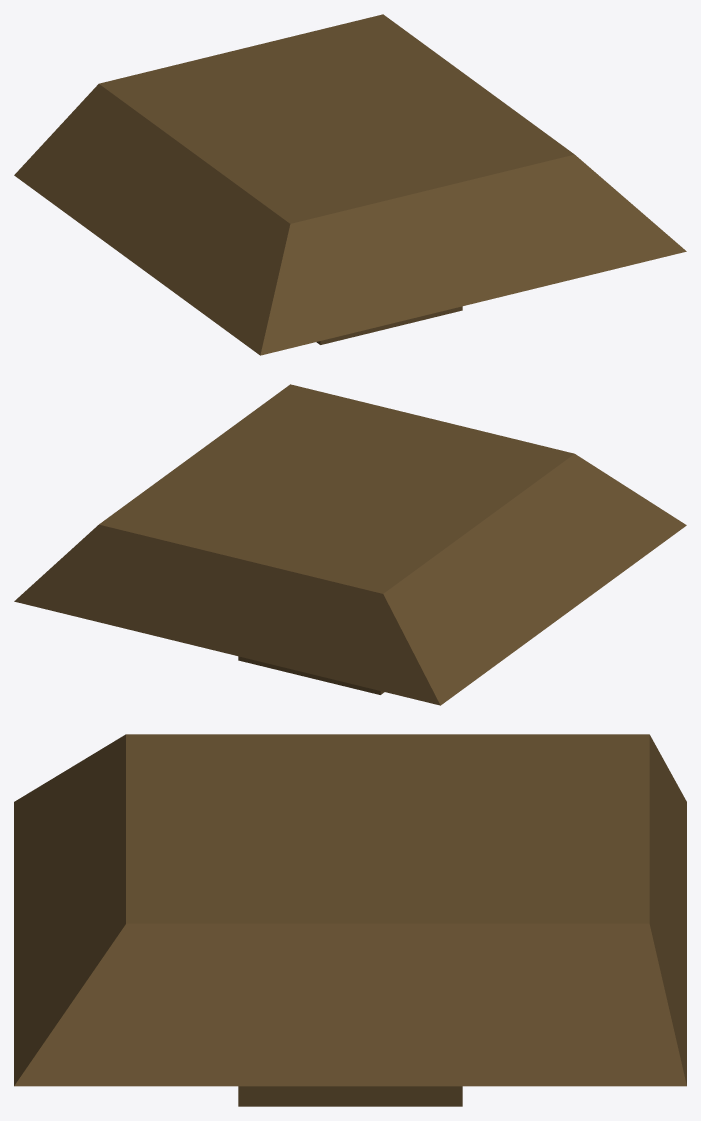
Rendered from original-69.obj.
The picture shows the model from 3 angles, top to bottom: view 1: azimuth 30°, elevation 25°; view 2: azimuth 150°, elevation 25°; view 3: azimuth 270°, elevation 25°; orthographic projection. The views are drawn at different scales.
Visible parts, largest first — view 1: KB_-_Key_1_48/KB_-_Key_1/mesh13/mesh13-geometry#mesh13-geometry; view 2: KB_-_Key_1_48/KB_-_Key_1/mesh13/mesh13-geometry#mesh13-geometry; view 3: KB_-_Key_1_48/KB_-_Key_1/mesh13/mesh13-geometry#mesh13-geometry.
Boxes of the visible parts, x1,y1,x2,y2 form: KB_-_Key_1_48/KB_-_Key_1/mesh13/mesh13-geometry#mesh13-geometry: [14, 14, 686, 355]; KB_-_Key_1_48/KB_-_Key_1/mesh13/mesh13-geometry#mesh13-geometry: [14, 384, 686, 705]; KB_-_Key_1_48/KB_-_Key_1/mesh13/mesh13-geometry#mesh13-geometry: [14, 734, 686, 1106].
Bounding box in the file's own units: 0.0764 × 0.0289 × 0.0764.
